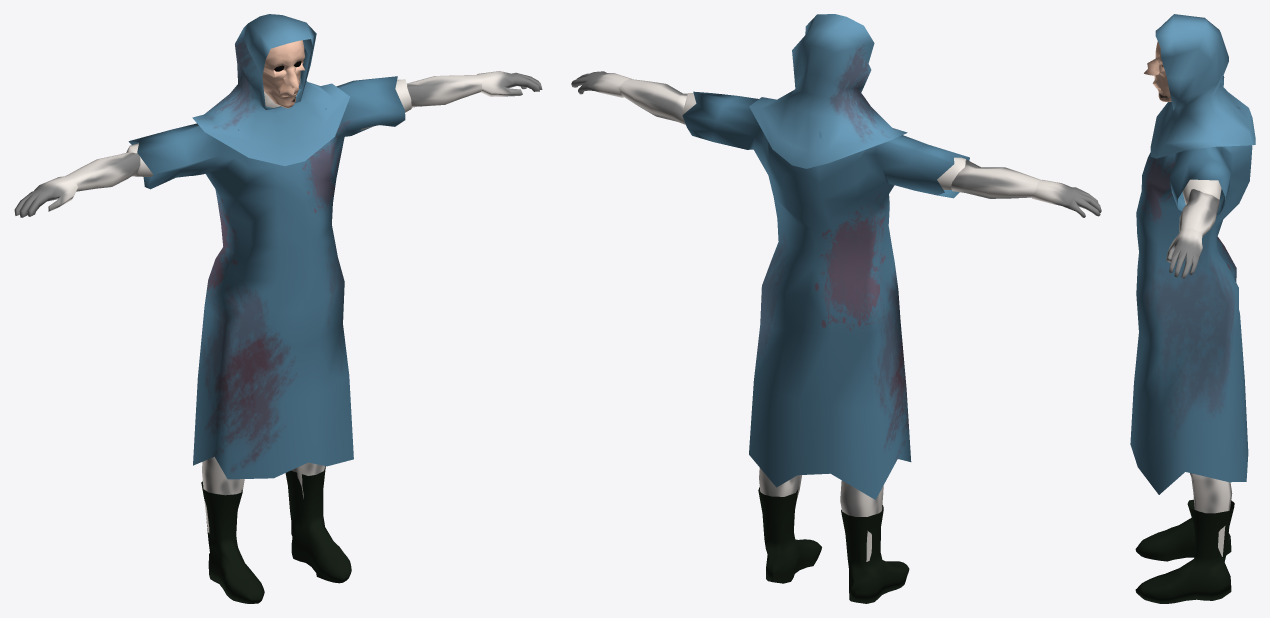
File: Villager3.fbx
3 views of the same model, side by side, from view 1: azimuth 30°, elevation 25°; view 2: azimuth 150°, elevation 25°; view 3: azimuth 270°, elevation 25° (orthographic).
Visible parts, largest first — view 1: Male_Villager3_Robe, Male_Villager3_Hood, Male_Villager3_Right_Boot_Part (×2), Male_Villager3_Left_Arm_Part_2, Male_Villager3_Right_Arm_Part_2, Male_Villager3_Head, Male_Villager3_Right_Boot; view 2: Male_Villager3_Robe, Male_Villager3_Hood, Male_Villager3_Right_Boot_Part (×2), Male_Villager3_Left_Arm_Part_2, Male_Villager3_Right_Arm_Part_2, Male_Villager3_Right_Boot (×2); view 3: Male_Villager3_Robe, Male_Villager3_Hood, Male_Villager3_Right_Boot_Part (×2), Male_Villager3_Right_Arm_Part_2, Male_Villager3_Right_Boot, Male_Villager3_Head, Male_Villager3_Right_Arm_Part_1.
Boxes of the visible parts, left/top/right/bottom form: Male_Villager3_Robe: left=128, top=76, right=405, bottom=479; Male_Villager3_Hood: left=192, top=14, right=349, bottom=166; Male_Villager3_Right_Boot_Part (×2): left=201, top=466, right=351, bottom=603; Male_Villager3_Left_Arm_Part_2: left=14, top=152, right=140, bottom=217; Male_Villager3_Right_Arm_Part_2: left=407, top=71, right=542, bottom=107; Male_Villager3_Head: left=262, top=40, right=304, bottom=108; Male_Villager3_Right_Boot: left=202, top=457, right=244, bottom=533; Male_Villager3_Robe: left=682, top=91, right=969, bottom=499; Male_Villager3_Hood: left=749, top=14, right=907, bottom=168; Male_Villager3_Right_Boot_Part (×2): left=758, top=487, right=909, bottom=603; Male_Villager3_Left_Arm_Part_2: left=951, top=160, right=1101, bottom=217; Male_Villager3_Right_Arm_Part_2: left=571, top=71, right=687, bottom=124; Male_Villager3_Right_Boot (×2): left=759, top=468, right=883, bottom=561; Male_Villager3_Robe: left=1130, top=76, right=1252, bottom=494; Male_Villager3_Hood: left=1150, top=14, right=1255, bottom=158; Male_Villager3_Right_Boot_Part (×2): left=1135, top=473, right=1234, bottom=603; Male_Villager3_Right_Arm_Part_2: left=1166, top=189, right=1219, bottom=278; Male_Villager3_Right_Boot: left=1190, top=473, right=1232, bottom=556; Male_Villager3_Head: left=1144, top=41, right=1171, bottom=101; Male_Villager3_Right_Arm_Part_1: left=1182, top=179, right=1221, bottom=204.
Size of the model in its own units: 201 by 204 by 41.74.
